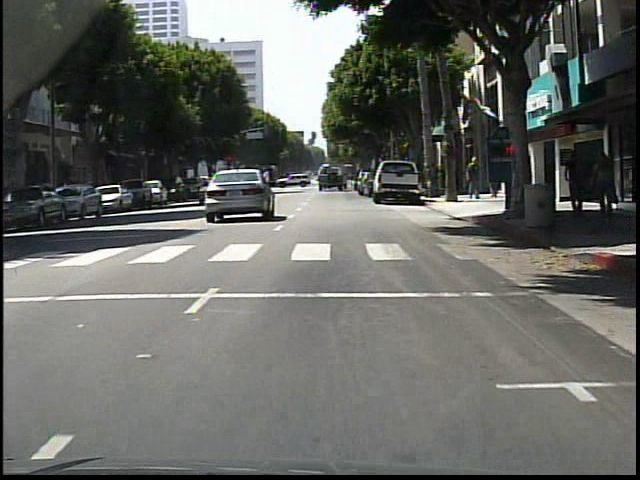person: (589, 151, 619, 220), (563, 151, 592, 216), (467, 154, 484, 198), (261, 164, 278, 201)
